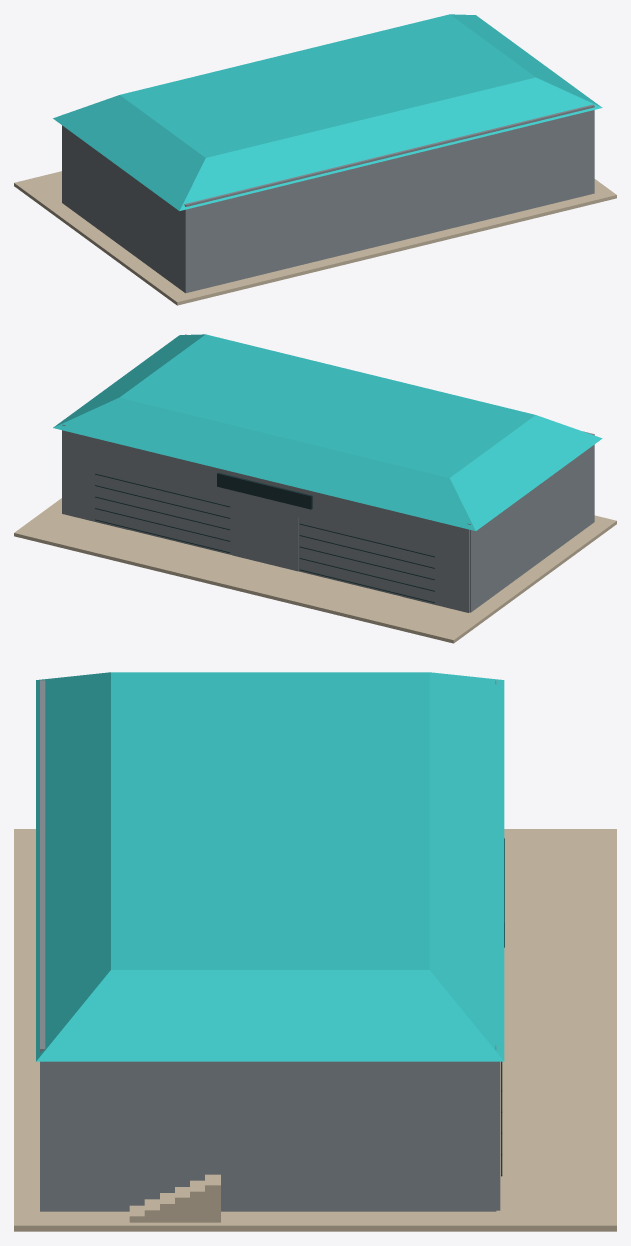
Rendered from garage.fbx.
3 views of the same model, one above another, from view 1: azimuth 30°, elevation 25°; view 2: azimuth 150°, elevation 25°; view 3: azimuth 270°, elevation 25° (orthographic). The views are drawn at different scales.
Parts seen in each view (by area): view 1: garage; view 2: garage; view 3: garage.
Boxes of the visible parts, bbox=[...] form: garage: bbox=[14, 14, 616, 305]; garage: bbox=[14, 334, 616, 643]; garage: bbox=[14, 672, 616, 1231].
Size of the model in its own units: 28 by 7 by 18.
